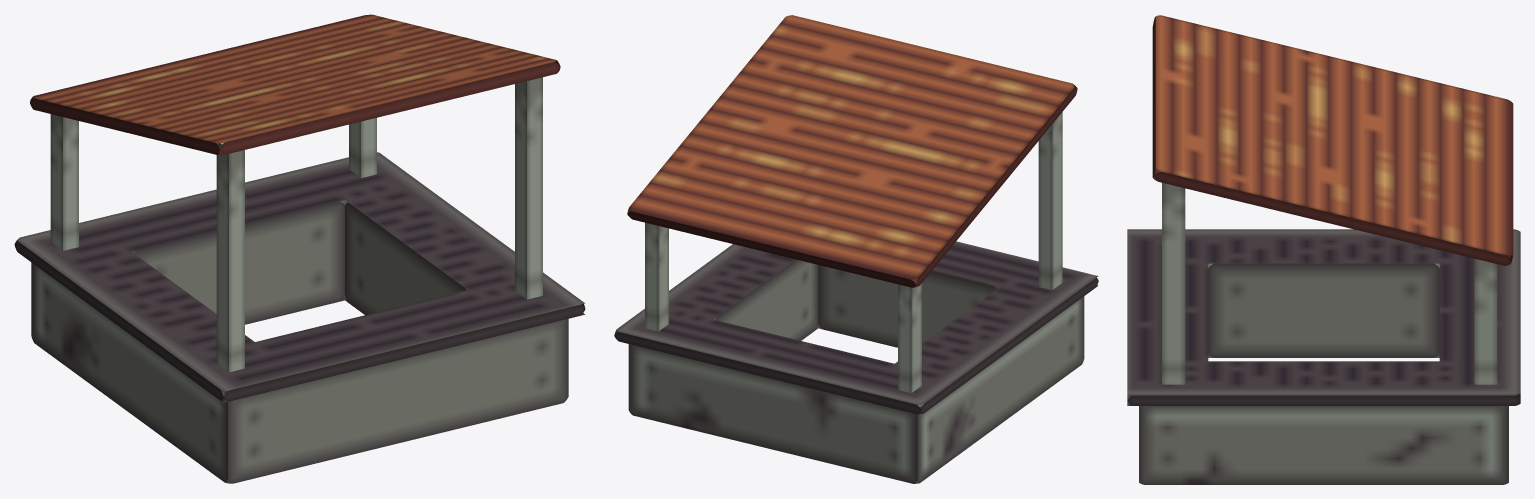
Rendered from storefront.fbx.
The picture shows the model from 3 angles, left to right: view 1: azimuth 30°, elevation 25°; view 2: azimuth 150°, elevation 25°; view 3: azimuth 270°, elevation 25°; orthographic projection. The views are drawn at different scales.
Parts seen in each view (by area): view 1: storefront; view 2: storefront; view 3: storefront.
Boxes of the visible parts, <box> form: storefront: <box>14,14,585,483</box>; storefront: <box>614,15,1098,483</box>; storefront: <box>1127,15,1520,484</box>.
Size of the model in its own units: 425 by 375 by 425.
